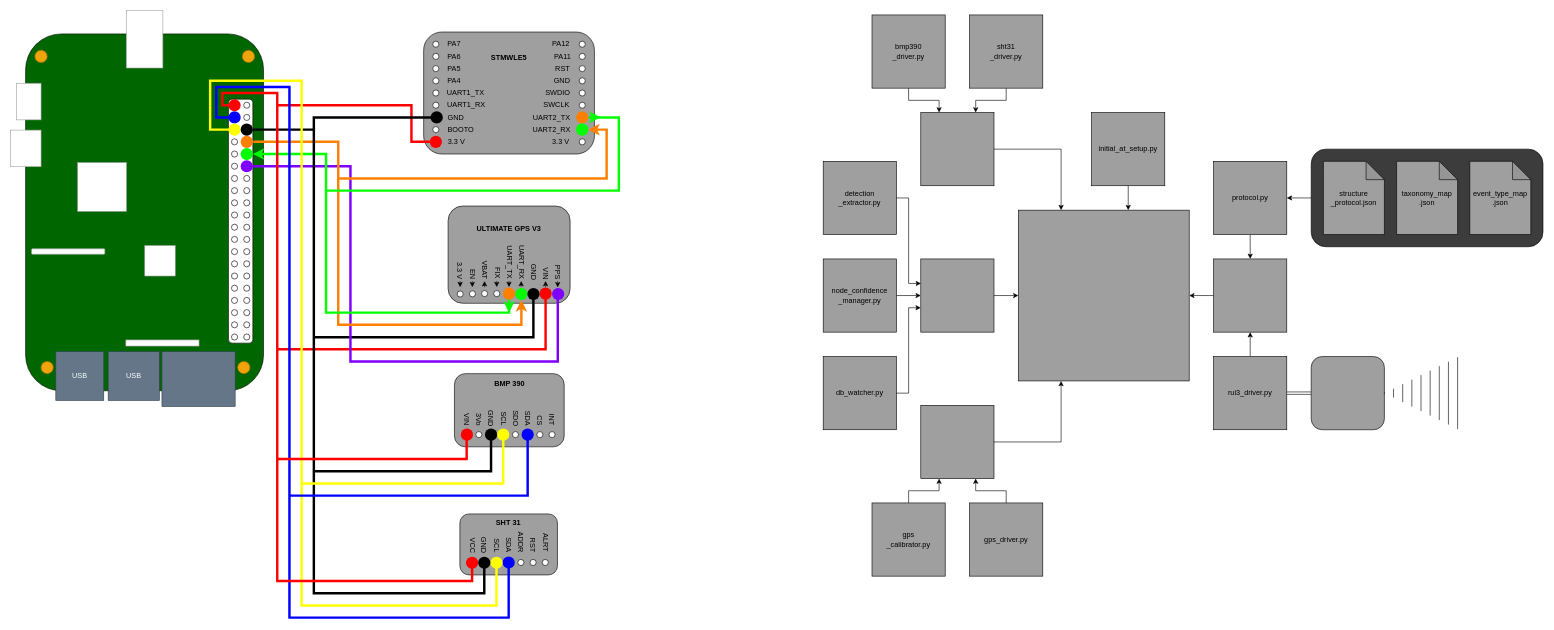
This 1554x630 diagram has some shape labels left out. The shapes that lost their labels are listed below. From the top down, each one's centre as x and y in pixels, then its label:
At point (144, 39): "MICRO SD".
At point (28, 101): "5V".
At point (25, 148): "HDMI".
At point (957, 149): "weather _sampler.py".
At point (957, 295): "birdnet _sampler.py".
At point (1103, 295): "dispatcher.py".
At point (1250, 295): "send_over _lora.py".
At point (198, 379): "ETHERNET".
At point (1347, 393): "RAK3272LP".
At point (957, 442): "telemetry _sampler.py".
